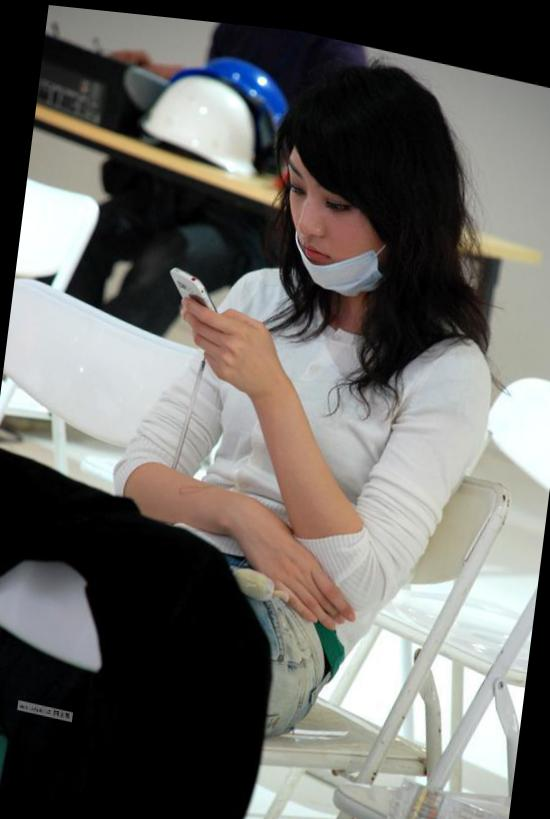WRONG: (276, 140, 396, 293)
